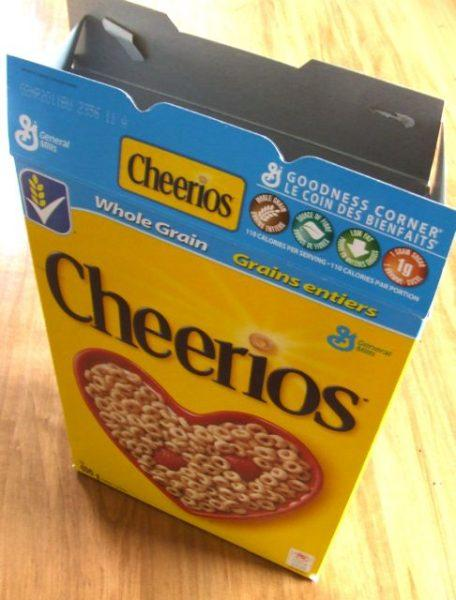cardboard: (0, 0, 455, 599)
plastic: (0, 0, 455, 599)
